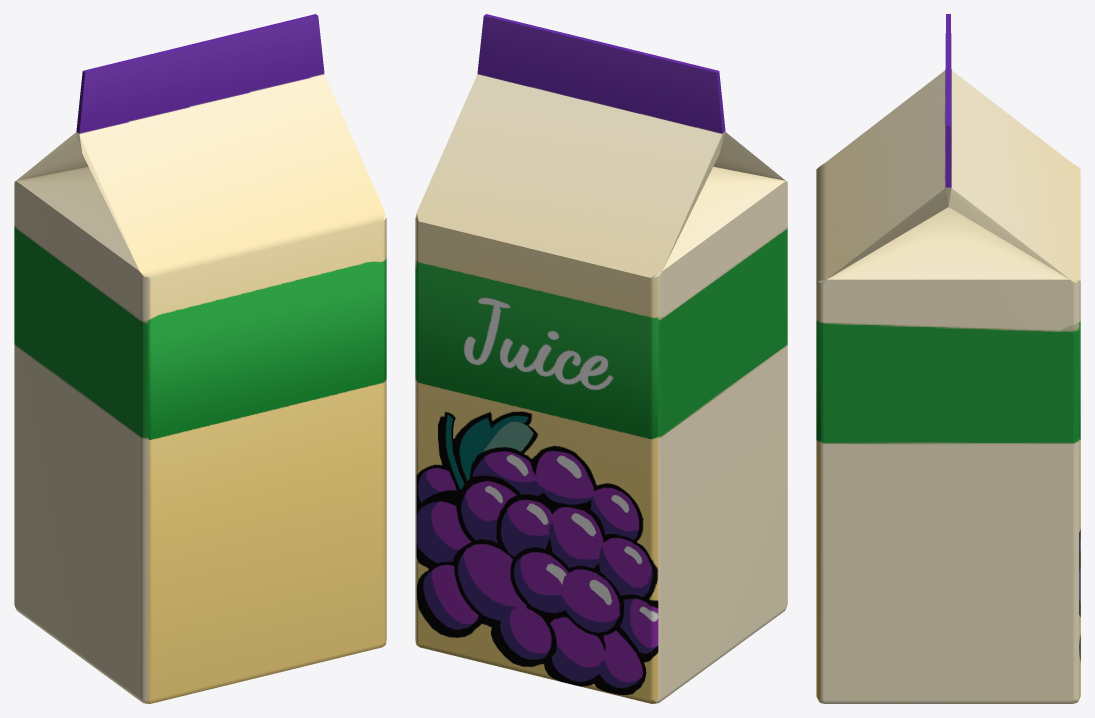
File: nuosc ep tao-001.fbx
3 renders of one model, left to right at view 1: azimuth 30°, elevation 25°; view 2: azimuth 150°, elevation 25°; view 3: azimuth 270°, elevation 25°, orthographic.
Parts seen in each view (by area): view 1: hop_nuoc_ep_tao7; view 2: hop_nuoc_ep_tao7; view 3: hop_nuoc_ep_tao7.
Part boxes in pixels (bbox=[...]): hop_nuoc_ep_tao7: bbox=[14, 14, 386, 703]; hop_nuoc_ep_tao7: bbox=[415, 14, 787, 703]; hop_nuoc_ep_tao7: bbox=[816, 14, 1080, 703].
Bounding box in the file's own units: 61.88 × 141 × 58.56.
Materials: 1 (1 with a texture image).
